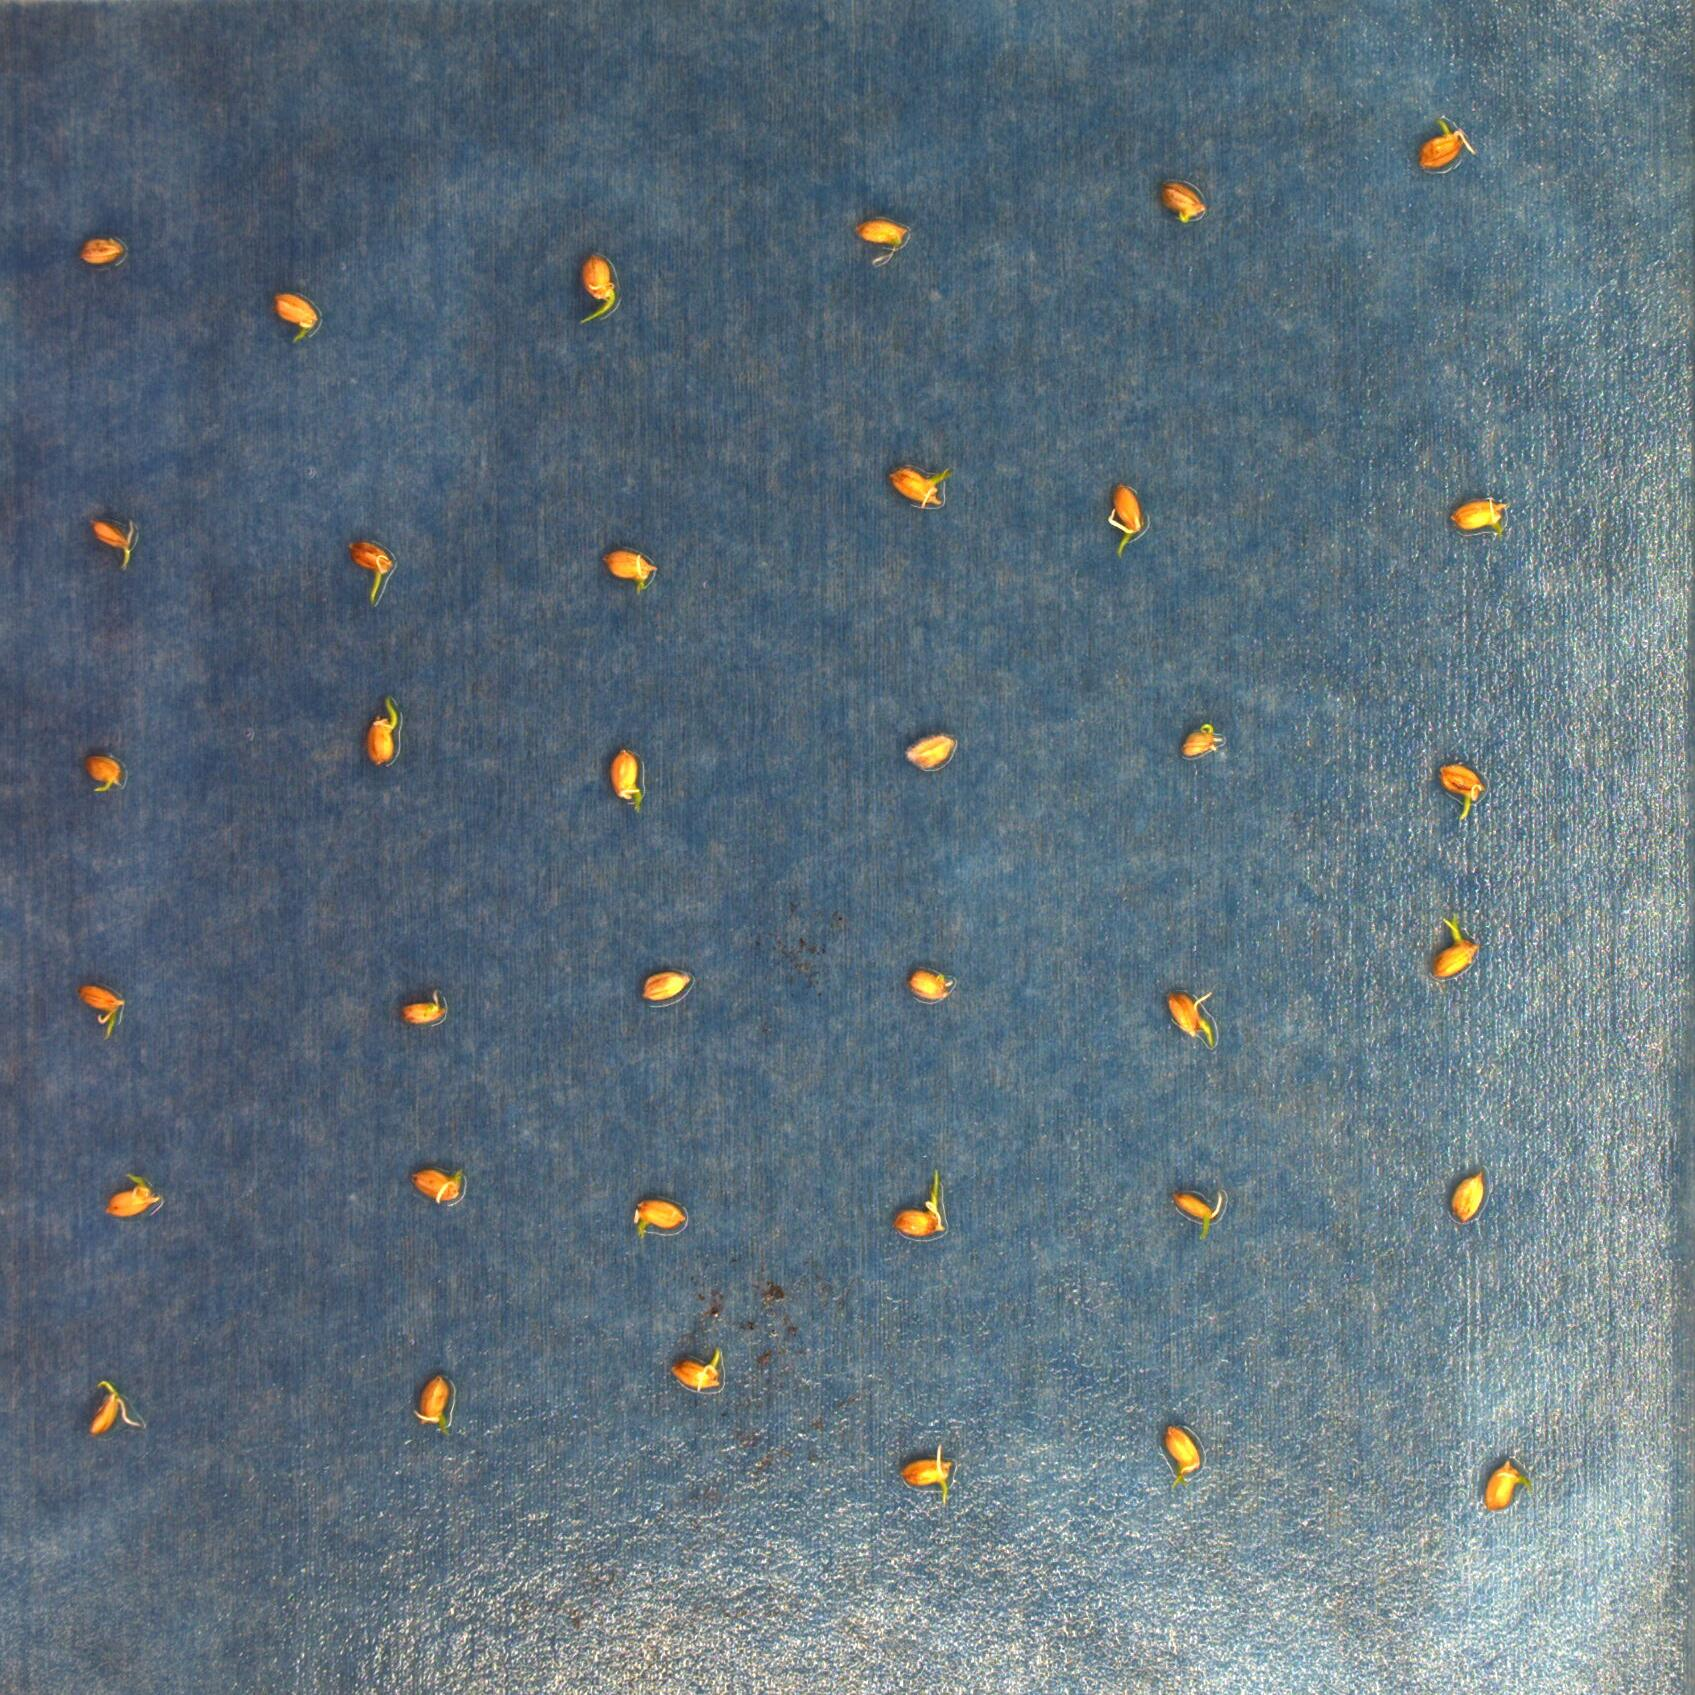not sprout: (1416, 112, 1479, 171), (896, 1444, 951, 1510), (896, 455, 953, 517), (1164, 1423, 1208, 1499), (85, 1380, 141, 1436), (598, 545, 660, 591), (1482, 1456, 1530, 1513), (272, 289, 317, 345), (104, 1170, 160, 1215), (411, 1377, 453, 1433), (669, 1349, 723, 1391), (1163, 177, 1208, 225), (413, 1163, 463, 1205), (632, 1198, 683, 1239), (636, 967, 691, 1003), (400, 989, 449, 1028), (908, 961, 951, 1001), (1453, 1169, 1484, 1220), (81, 231, 126, 264)
sprout: (888, 1164, 948, 1236), (1159, 990, 1220, 1051), (855, 213, 913, 269), (1167, 1187, 1225, 1243), (573, 251, 618, 320), (348, 532, 393, 601), (1444, 494, 1513, 537), (1434, 764, 1482, 826), (1101, 487, 1139, 557), (85, 515, 133, 568), (1433, 919, 1473, 979), (365, 697, 400, 765), (612, 751, 649, 816), (79, 984, 123, 1040), (908, 728, 953, 773), (87, 754, 124, 793), (1184, 725, 1223, 756)
